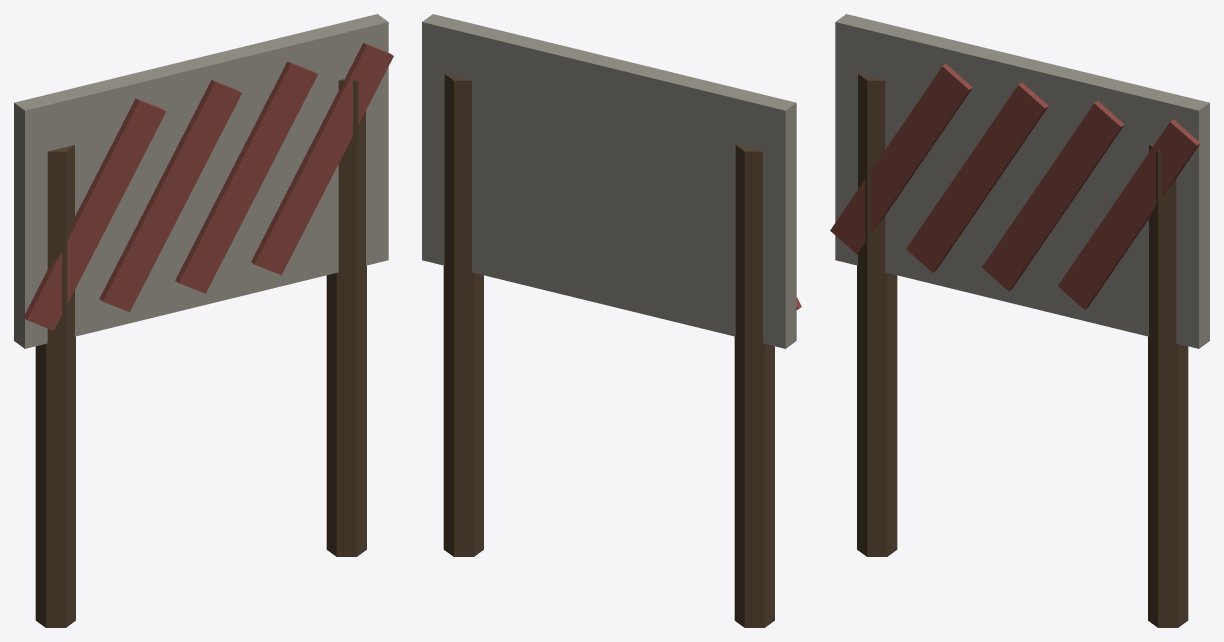
Rendered from P_WarningBoard.glb.
3 renders of one model, left to right at view 1: azimuth 30°, elevation 25°; view 2: azimuth 150°, elevation 25°; view 3: azimuth 330°, elevation 25°, orthographic.
Parts seen in each view (by area): view 1: P_WarningBoard; view 2: P_WarningBoard; view 3: P_WarningBoard.
Part boxes in pixels (x1=…): P_WarningBoard: x1=14, y1=14, x2=393, y2=627; P_WarningBoard: x1=422, y1=14, x2=801, y2=627; P_WarningBoard: x1=830, y1=14, x2=1209, y2=627.
Size of the model in its own units: 1.16 by 1.58 by 0.11.
